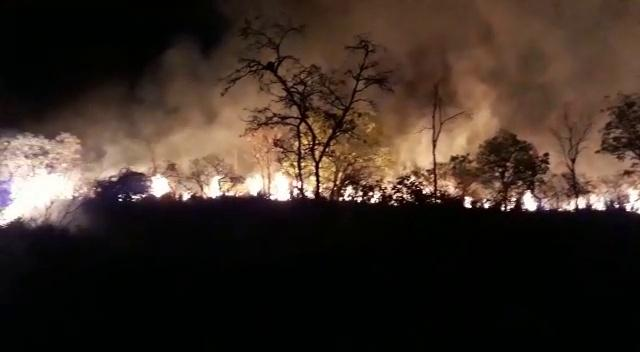fire: (383, 2, 640, 97), (100, 89, 266, 171)
